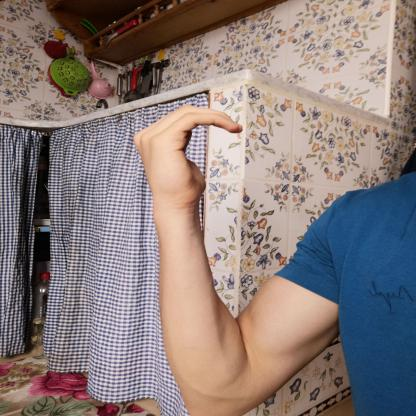HAA: (120, 95, 255, 207)
